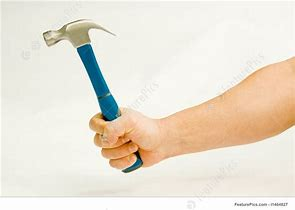hammer: (41, 17, 149, 174)
